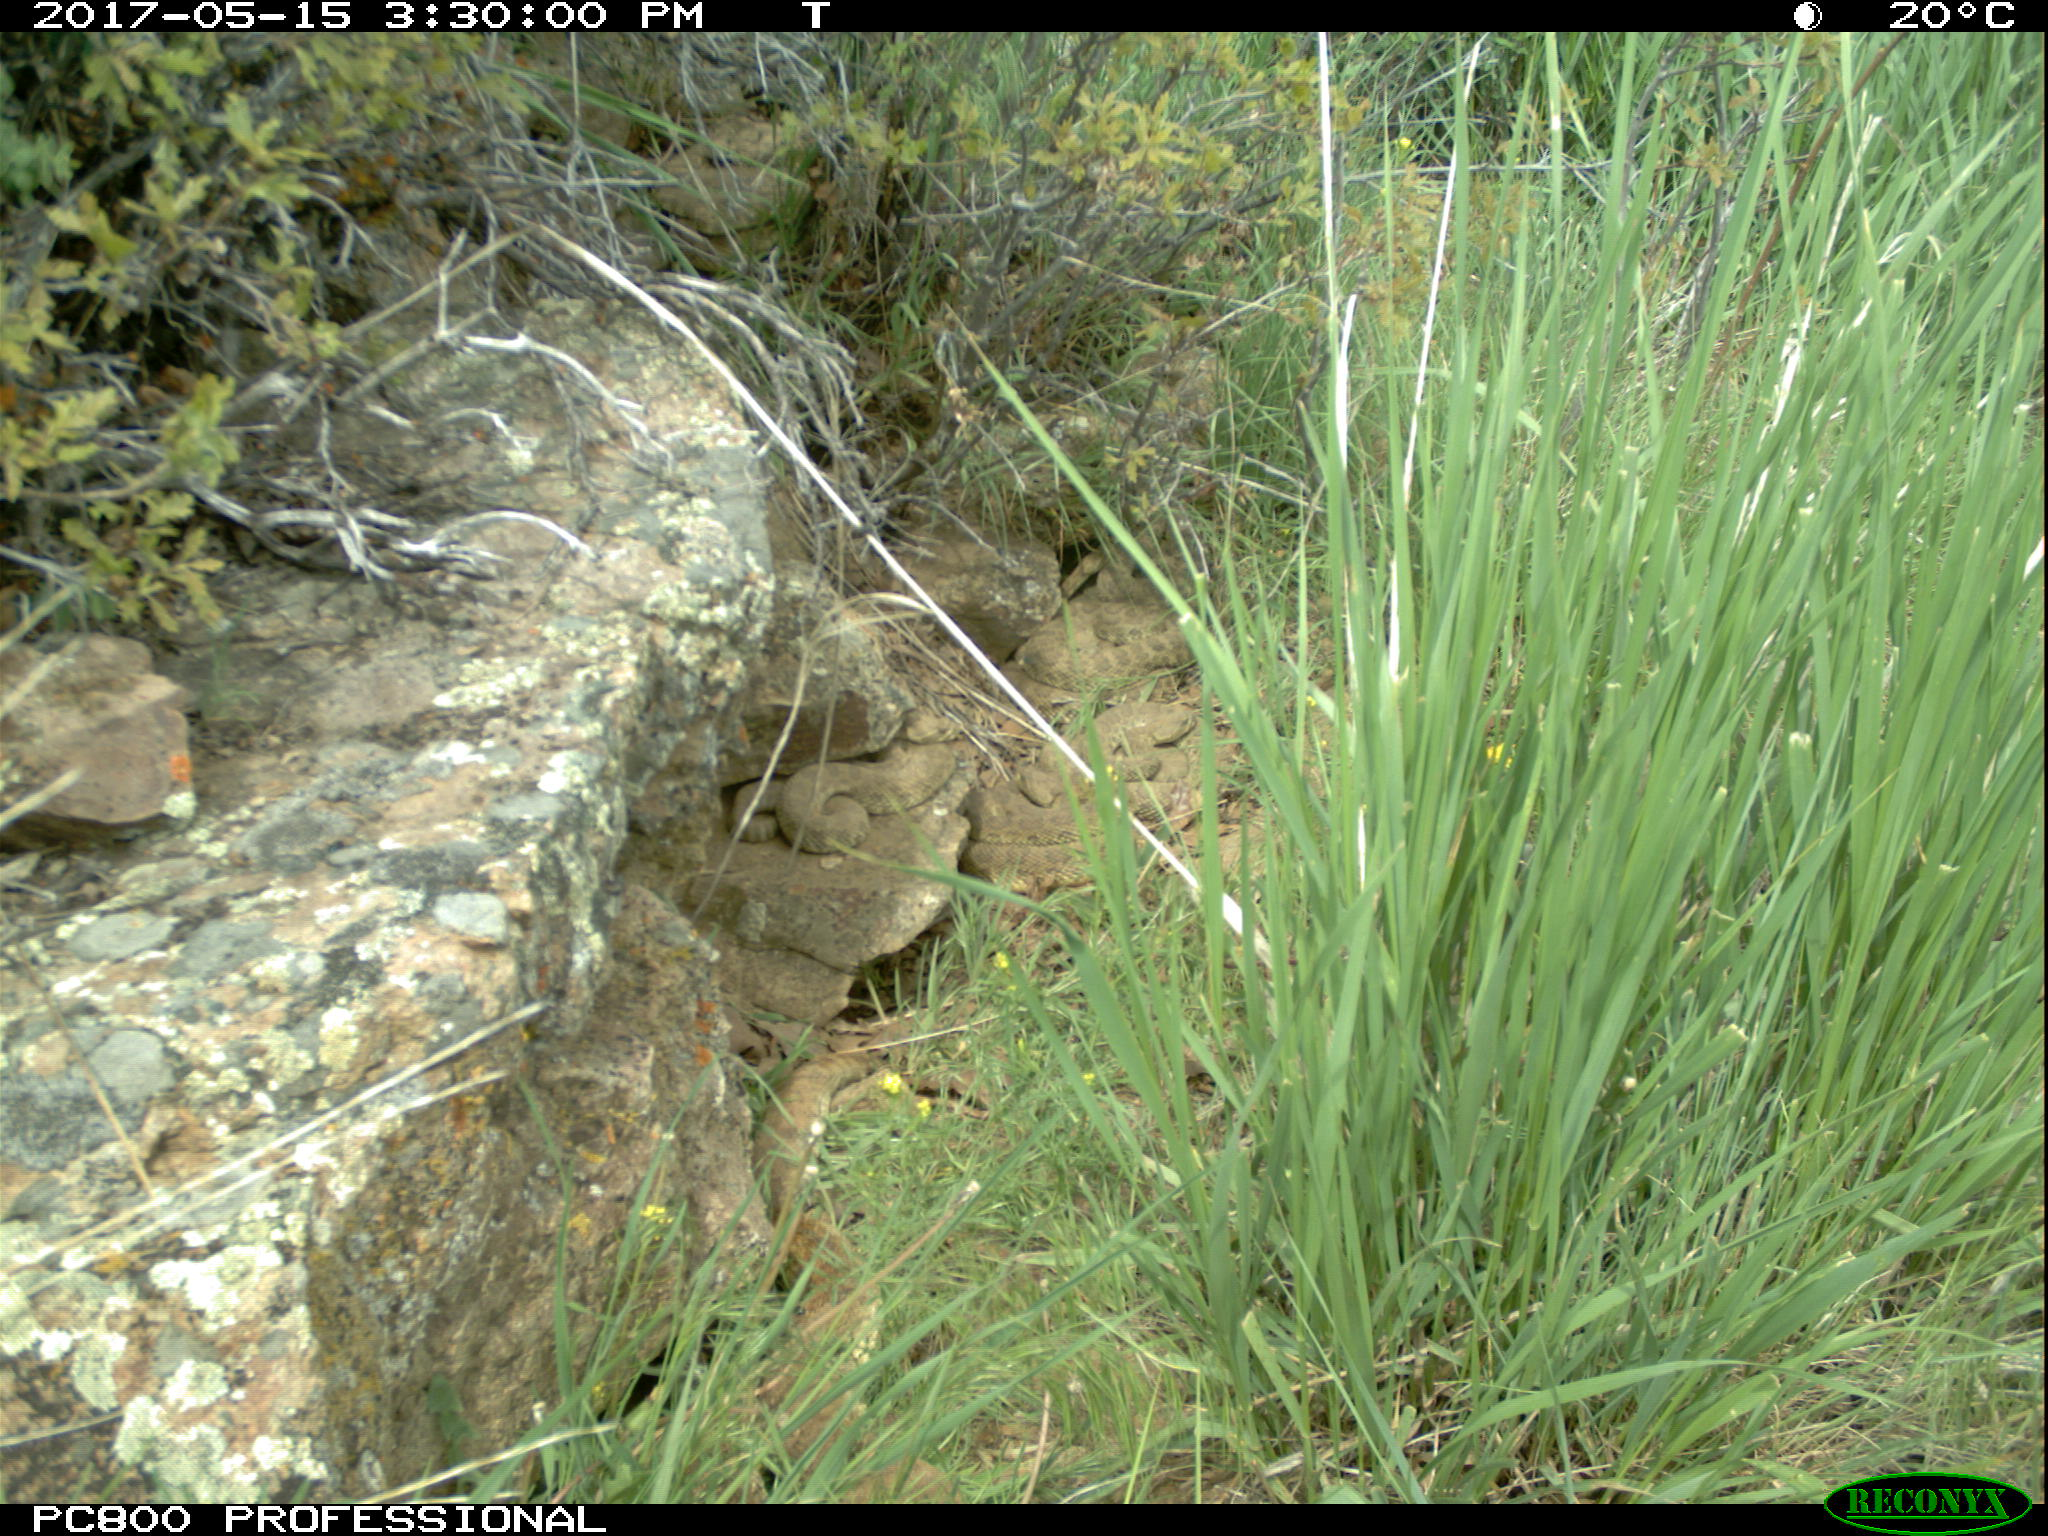snake: (751, 1046, 877, 1459), (726, 741, 961, 858), (1072, 694, 1218, 829), (648, 115, 814, 232), (964, 774, 1135, 886), (1014, 599, 1198, 691), (1064, 523, 1156, 620)
